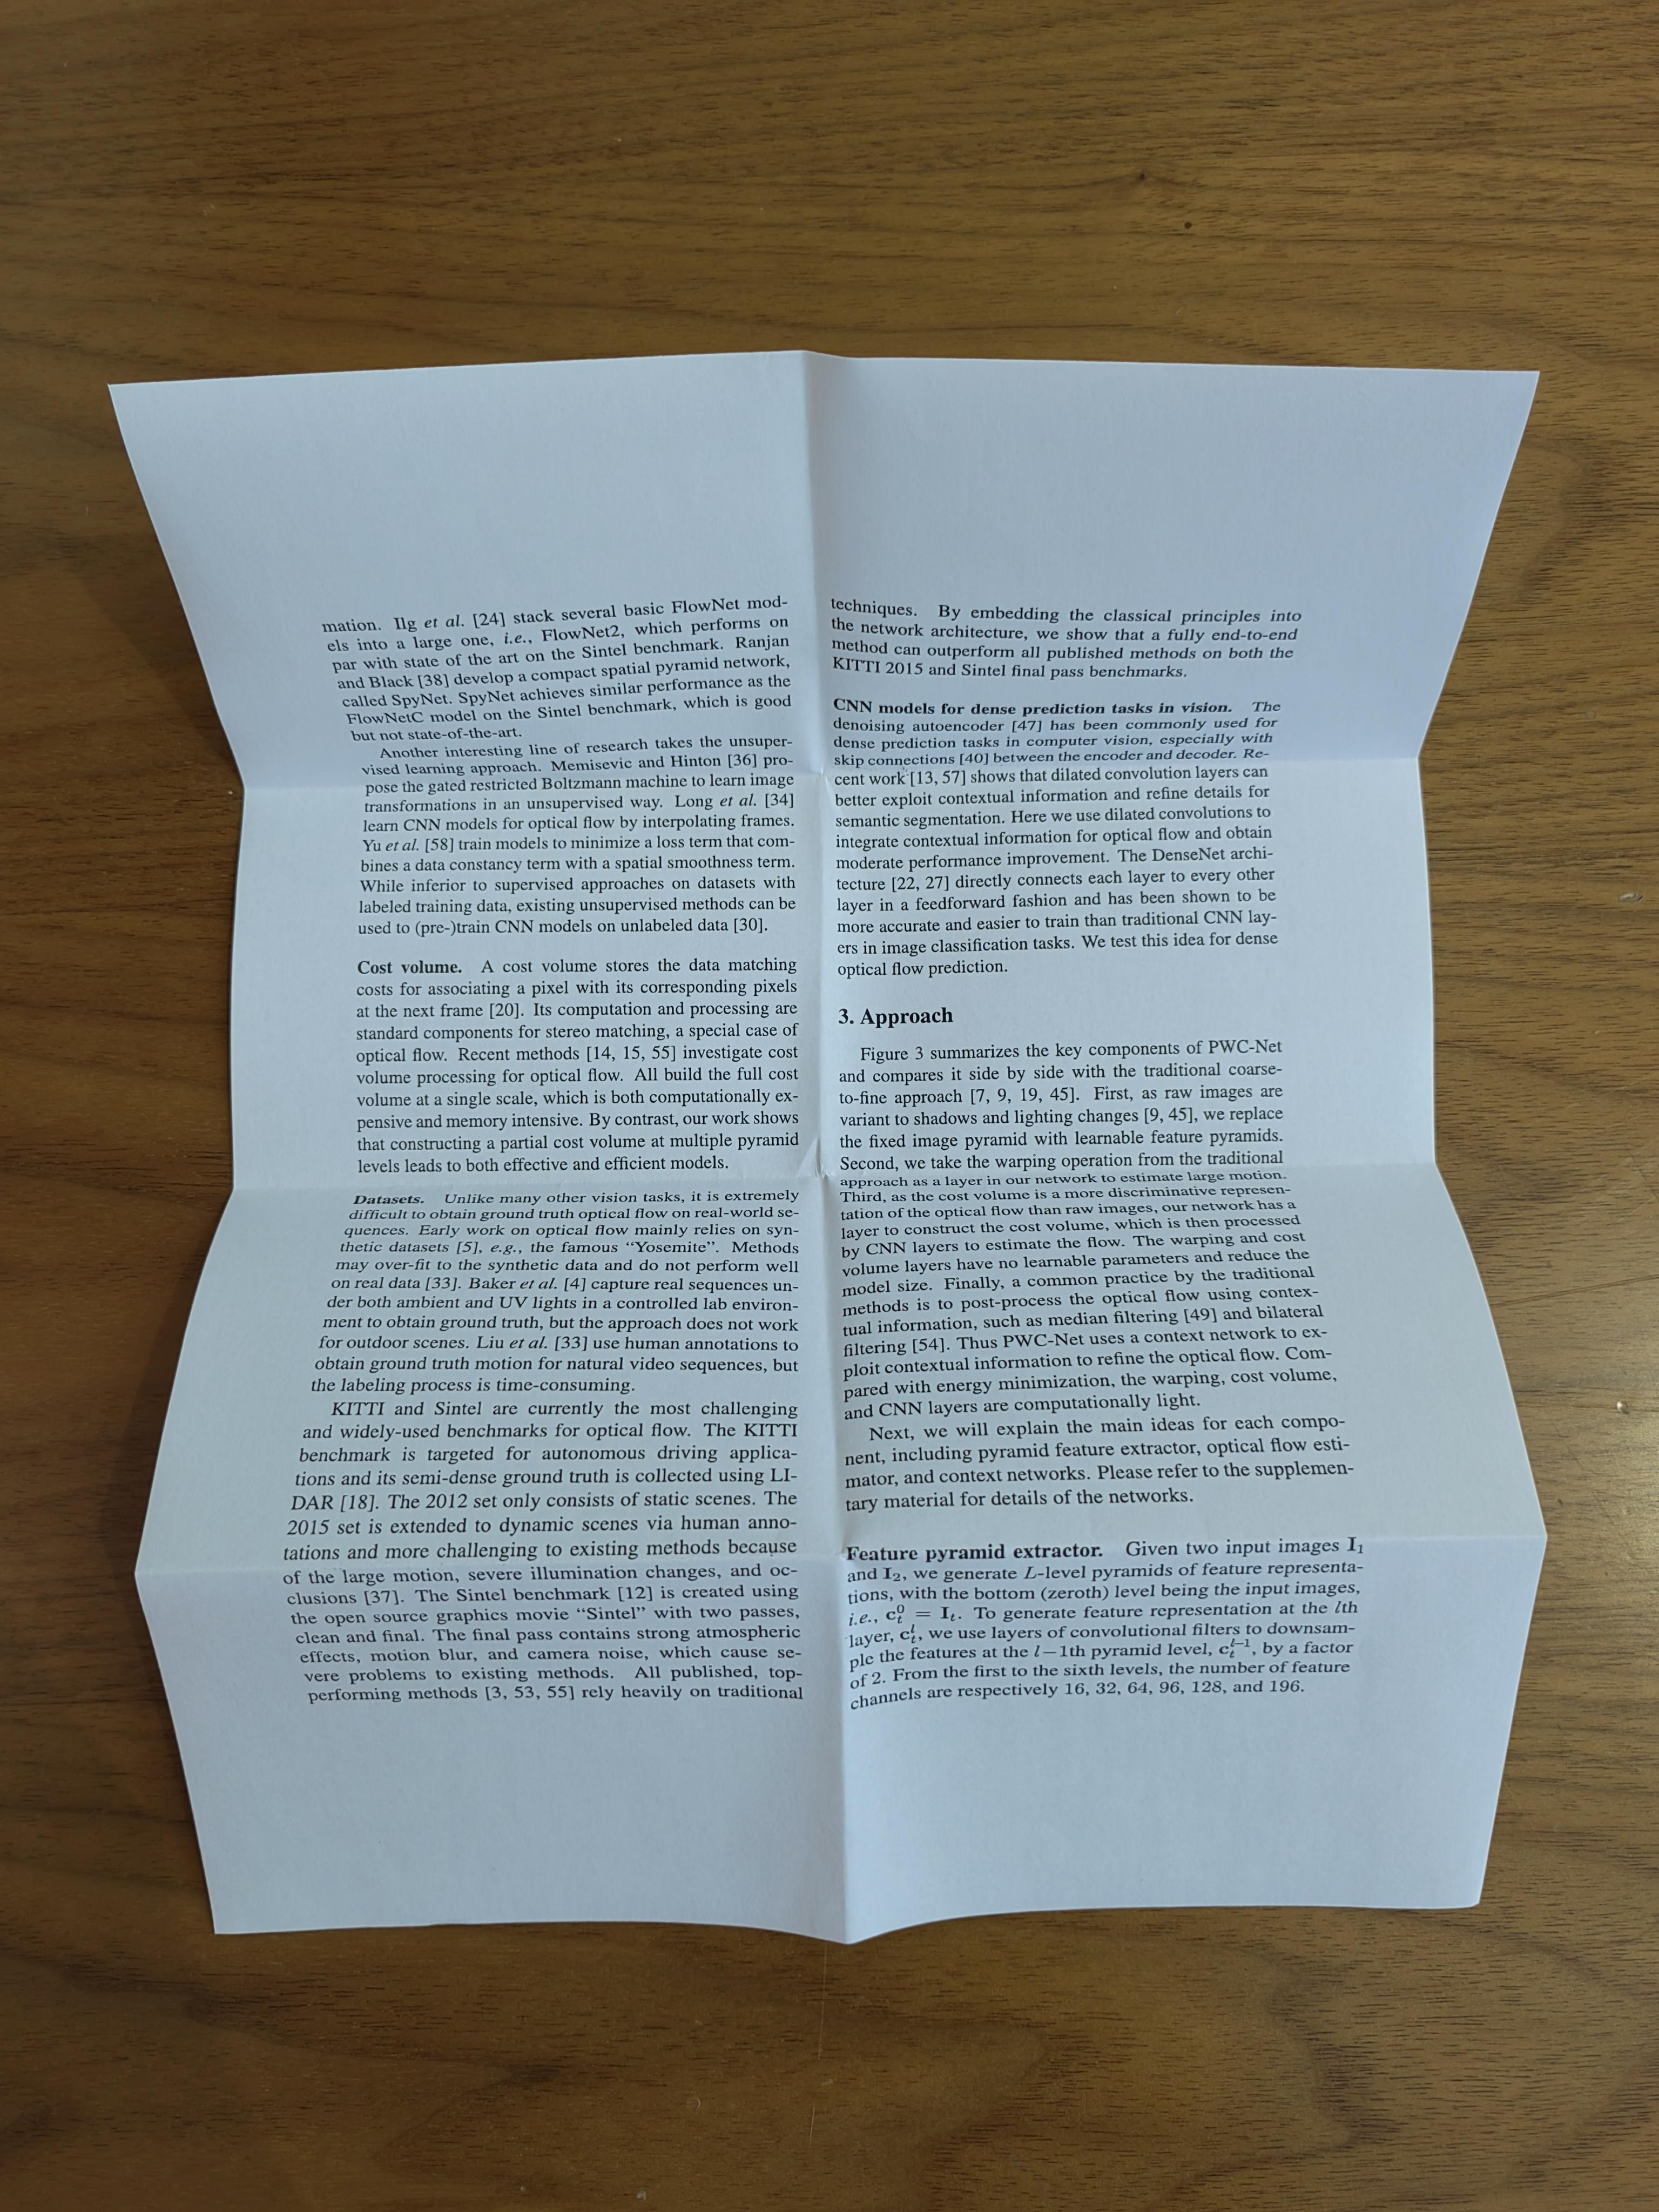paper: (30, 219, 1659, 2139)
